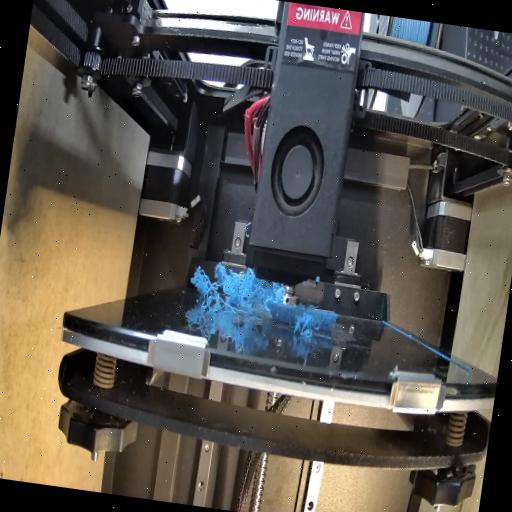spaghetti: (188, 265, 284, 322), (285, 302, 322, 344)
